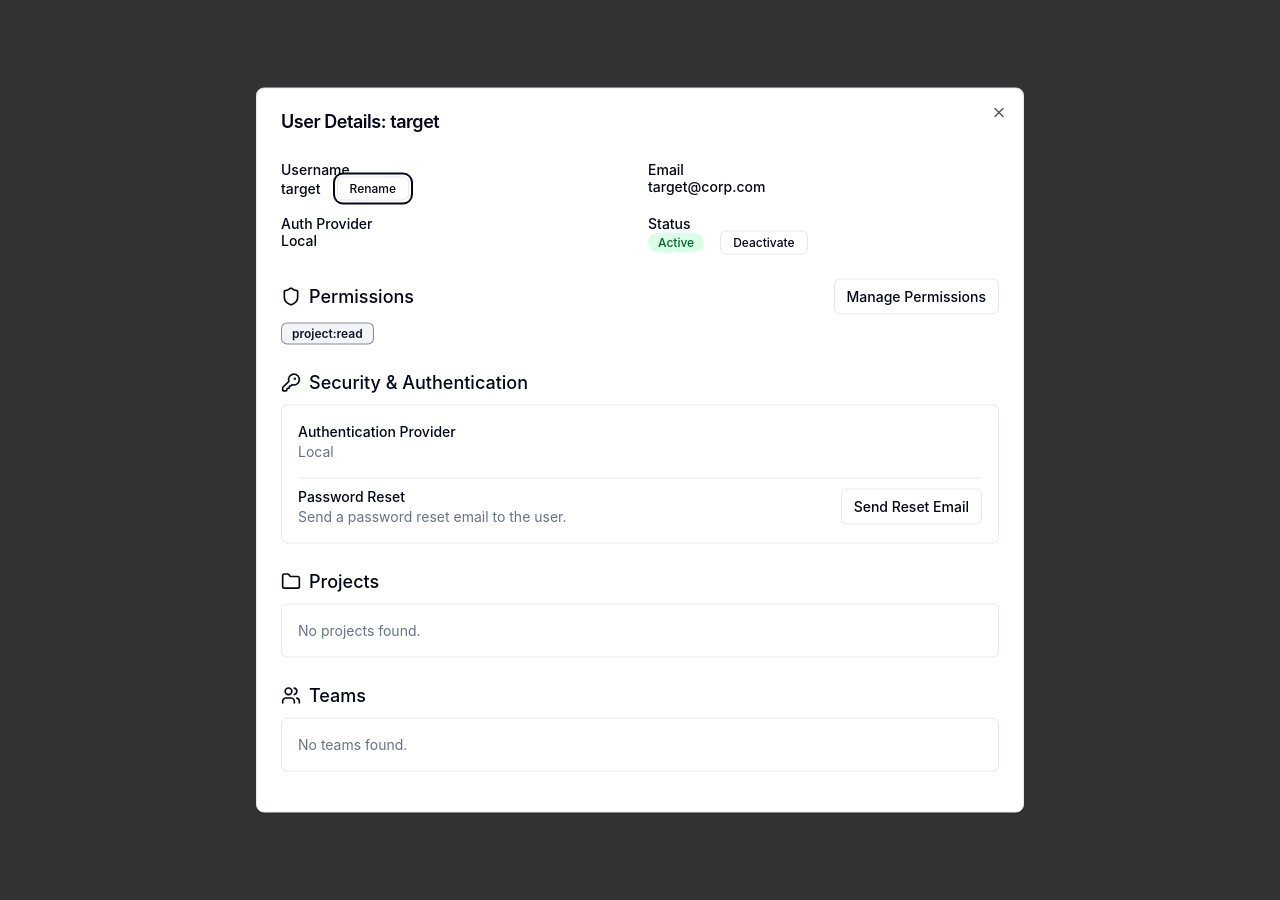
Scenario: UserDetailsDialog - username › drops the typed name when the rename is cancelled
Click the button "Rename" at (373, 188), box [337, 176, 409, 200]
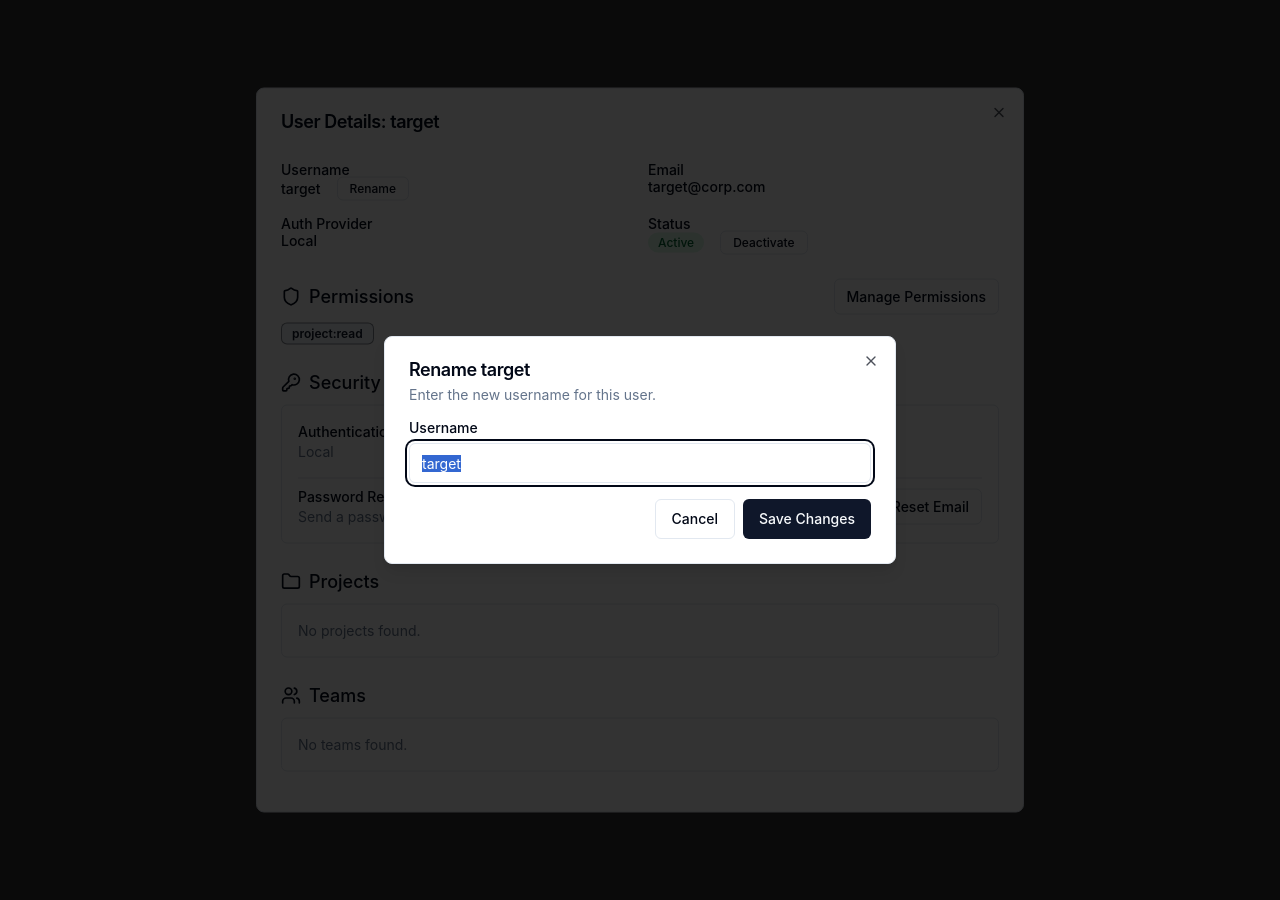
Replace the text in the field labelled "Username" with "target2" at (640, 463), box [409, 443, 871, 483]
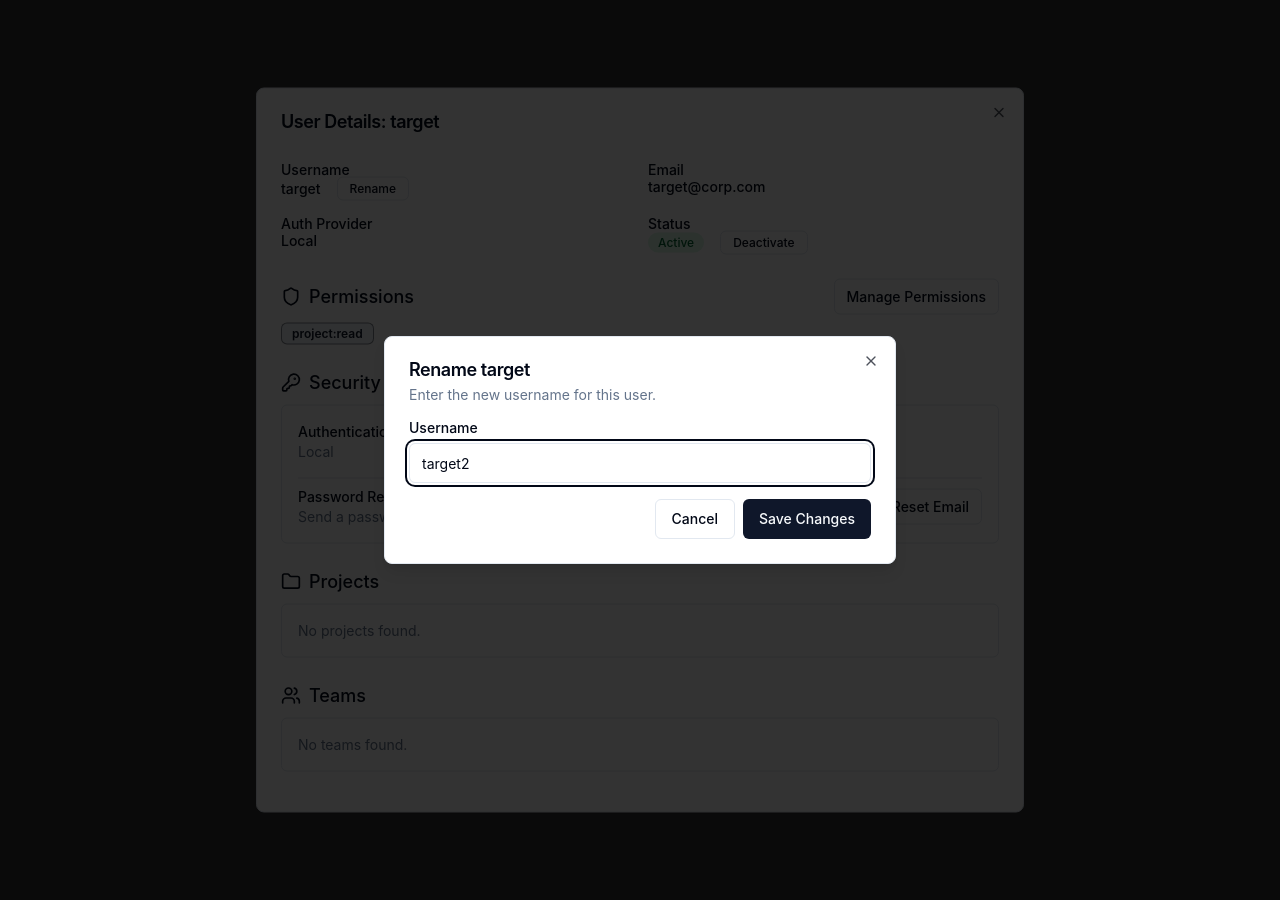
Click the button "Cancel" at (695, 519), box [654, 499, 735, 539]
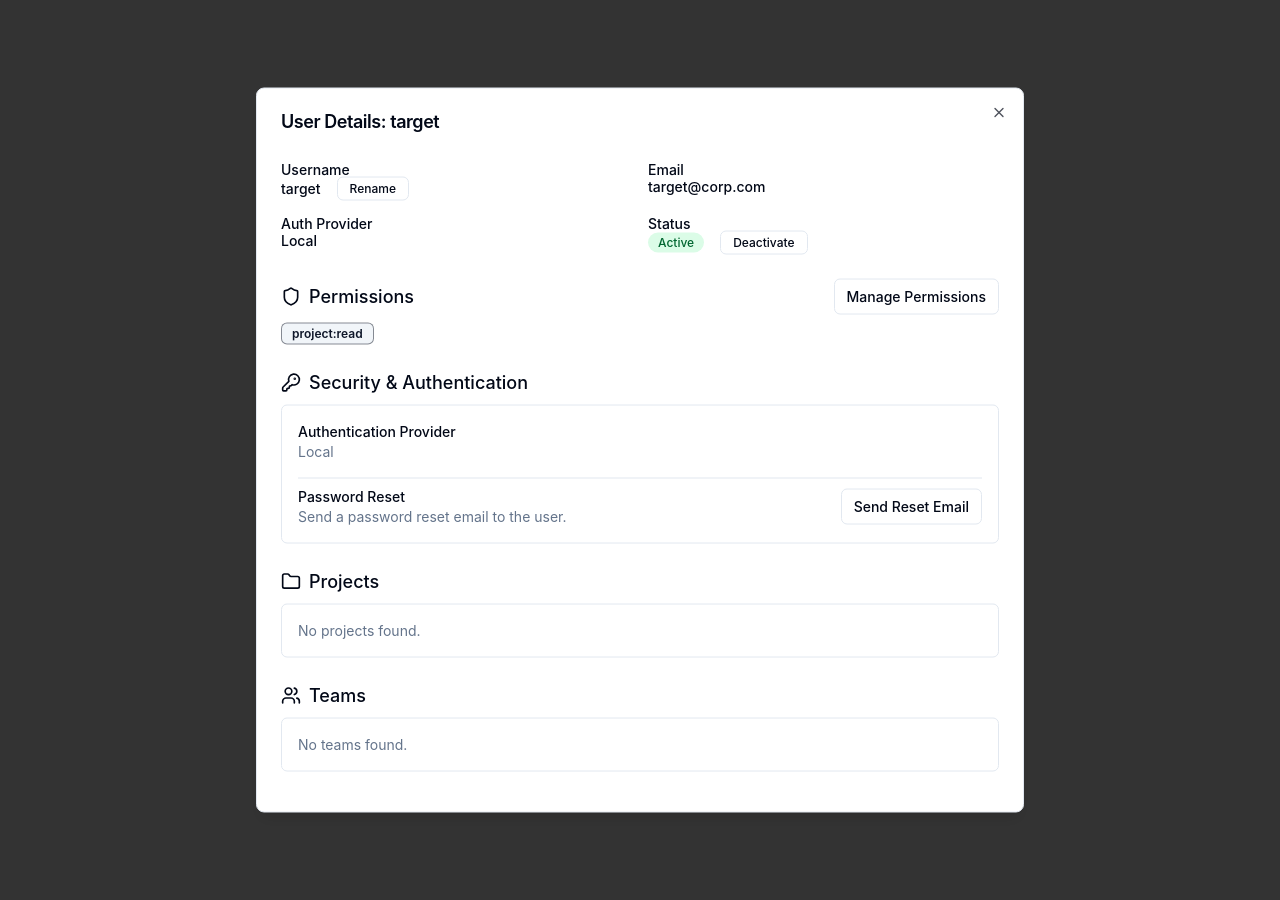
Expected: the heading "Rename target" is gone
Click the button "Rename" at (373, 188), box [337, 176, 409, 200]
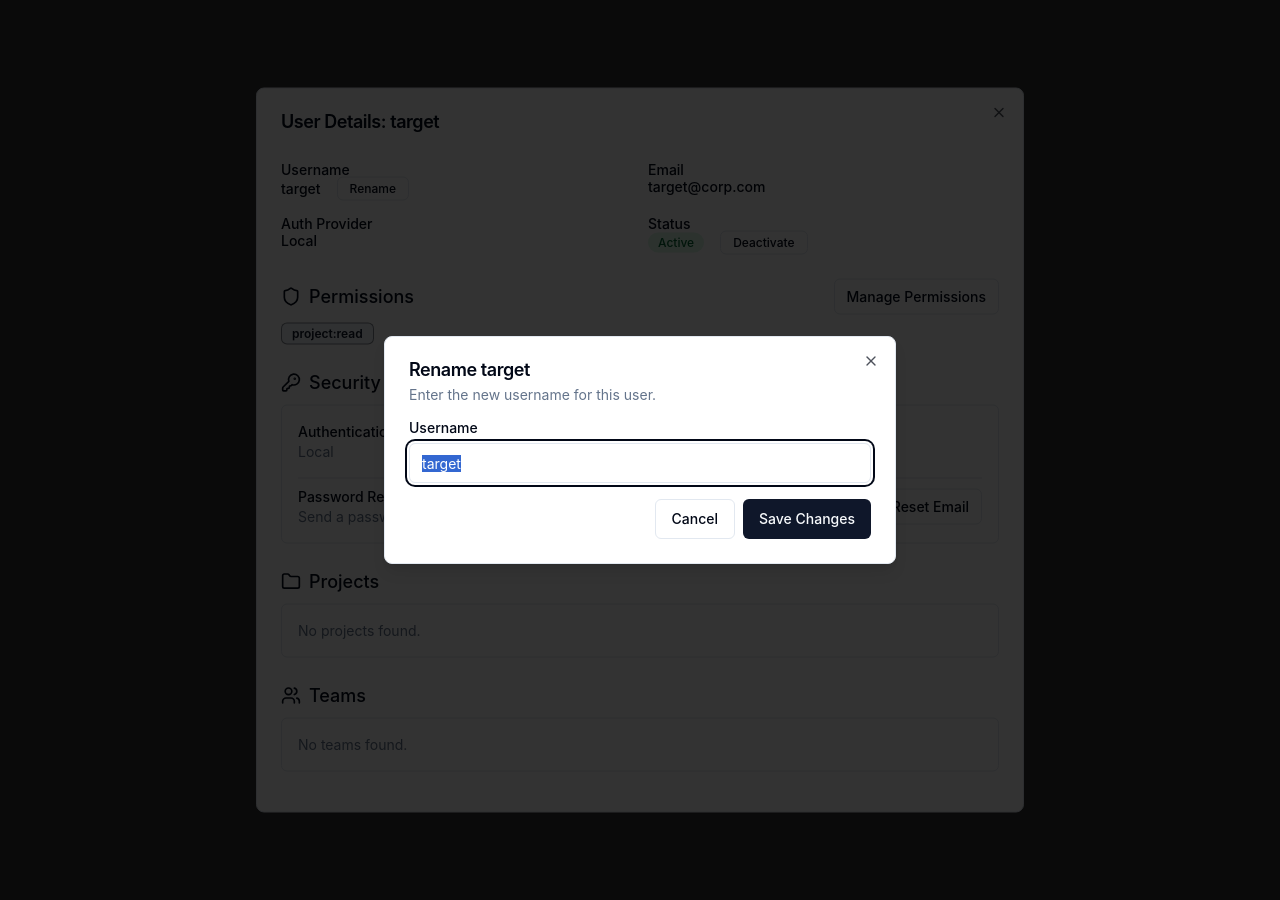
Expected: the field labelled "Username" holds "target", [409, 443, 871, 483]
